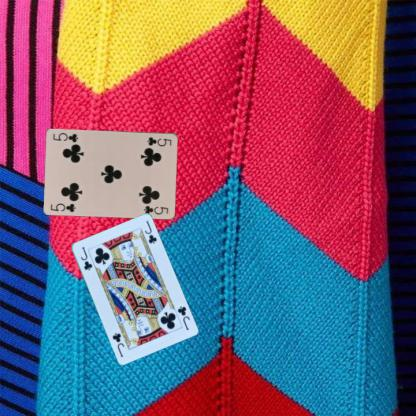5c: (144, 135, 173, 147), (48, 201, 77, 213)
Jc: (174, 303, 192, 332), (78, 244, 93, 271)
